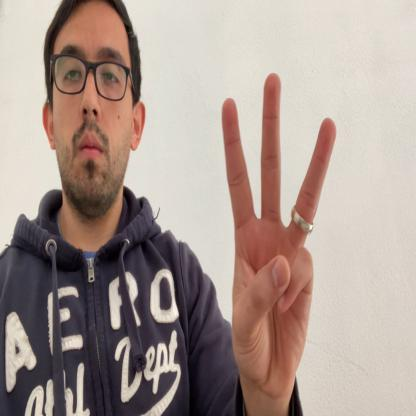W: (222, 74, 336, 406)
